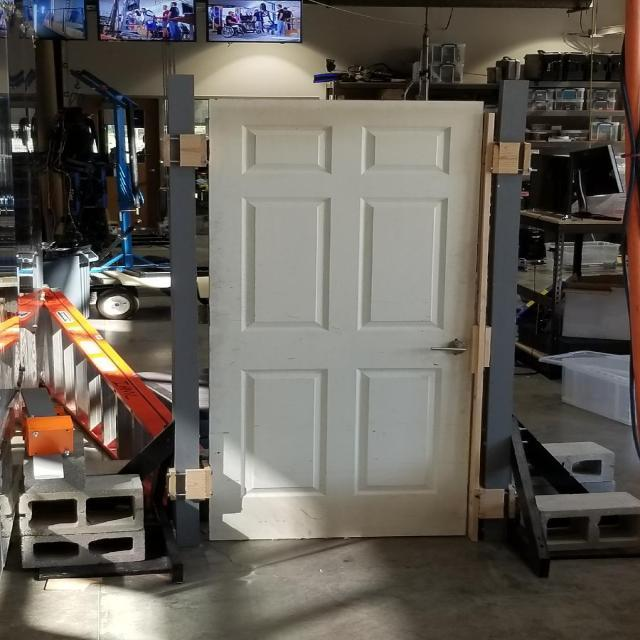door: (206, 94, 484, 538), (422, 334, 472, 360)
